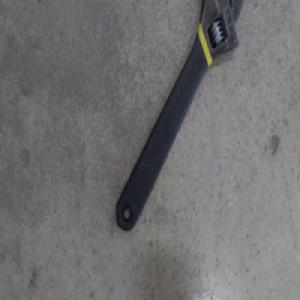AdjustableWrench: (115, 0, 244, 232)
